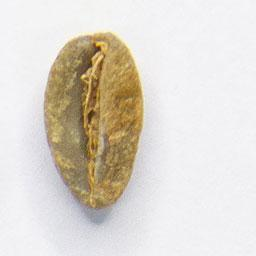longberry: (38, 27, 147, 213)
